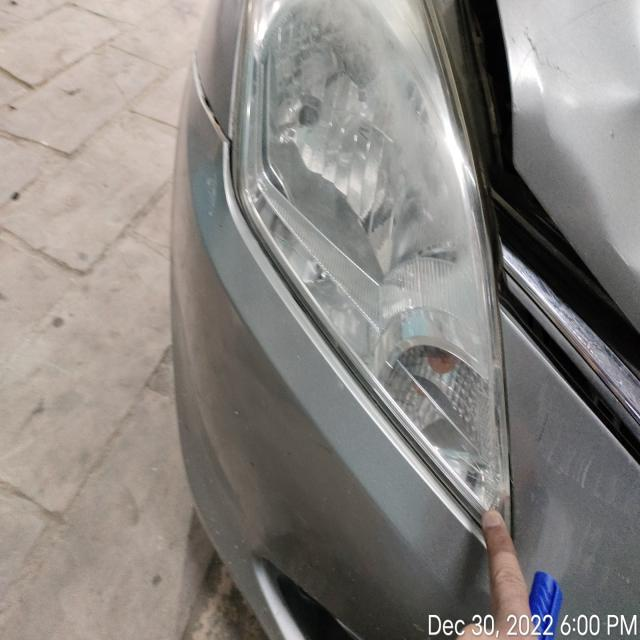damage: (188, 49, 229, 140), (521, 22, 564, 75), (455, 444, 502, 490)
